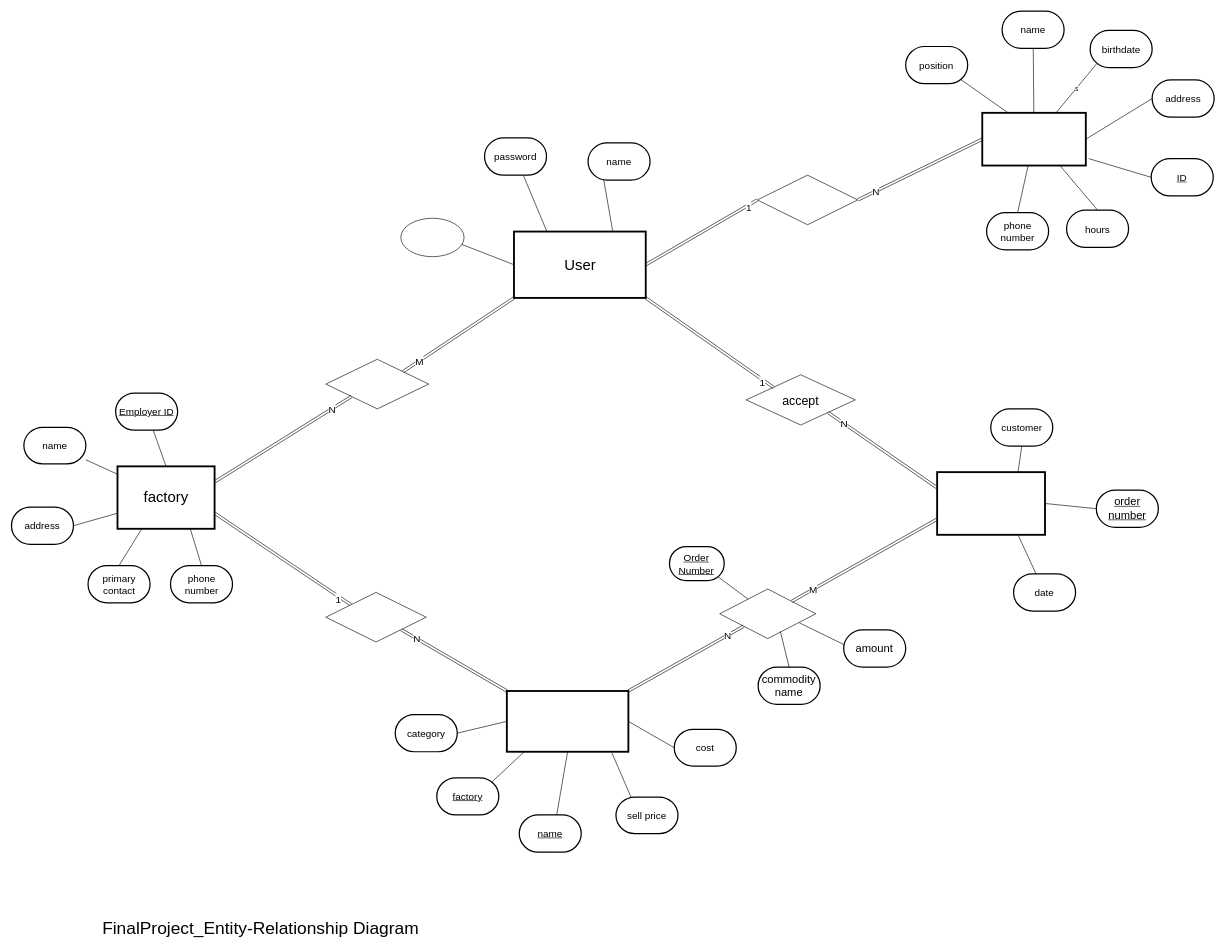
Image size: 1225x950. Some labels were removed from this diagram. The shapes that lost their labels are listed below. From the top down, each one's centre as x and y in pixels, then its label:
At point 1033,139: "empolyee".
At point 807,200: "hire".
At point 432,237: "tax id".
At point 377,384: "cooperate".
At point 991,503: "Order".
At point 375,617: "supply for".
At point 767,613: "include".
At point 567,721: "commodity".
